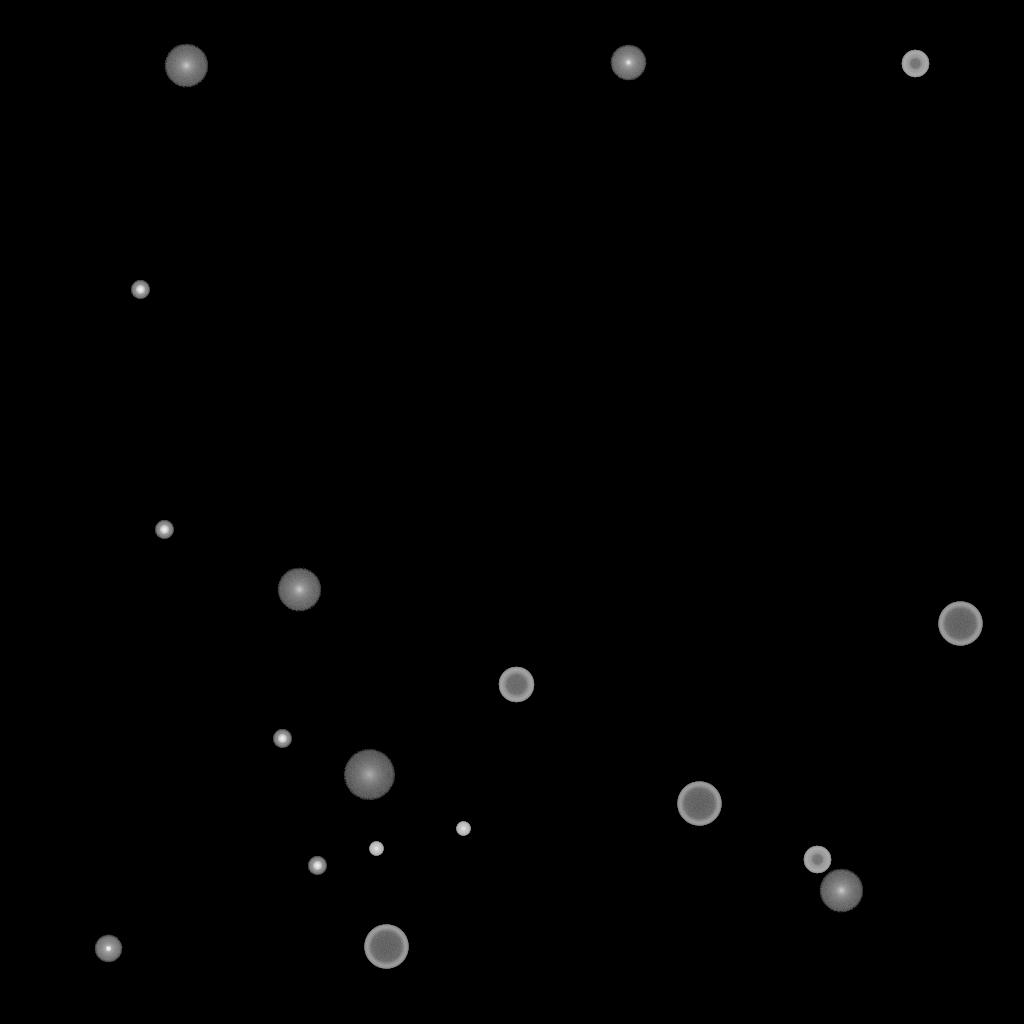depth:-10: (94, 935, 122, 963)
depth:-20: (273, 730, 291, 748), (155, 521, 173, 539), (308, 857, 326, 875), (131, 281, 149, 299)
depth:-30: (456, 822, 470, 836), (369, 842, 383, 856)
depth:-50: (803, 846, 831, 874), (901, 50, 929, 78)
depth:-60: (498, 667, 534, 703)
depth:-70: (364, 925, 408, 969), (677, 782, 721, 826), (938, 602, 982, 646)
depth:0: (610, 45, 646, 81)
depth:10: (164, 44, 208, 88), (819, 869, 863, 913), (277, 568, 321, 612)
depth:20: (343, 750, 395, 800)
